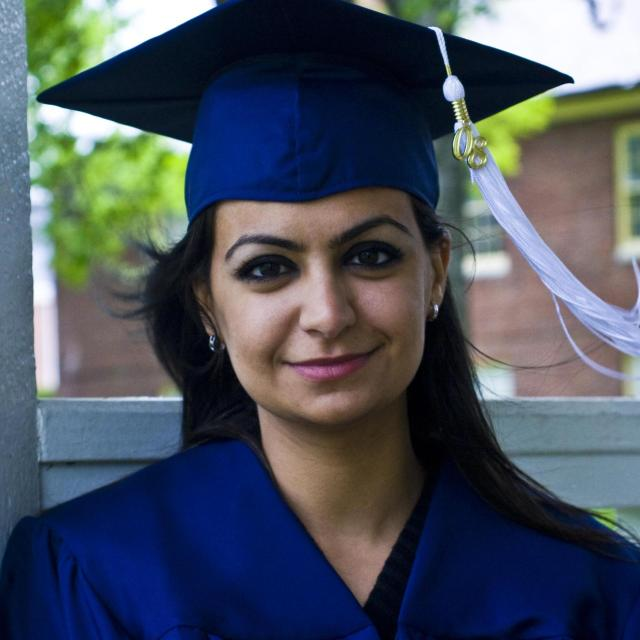no-glass: (223, 236, 409, 284)
